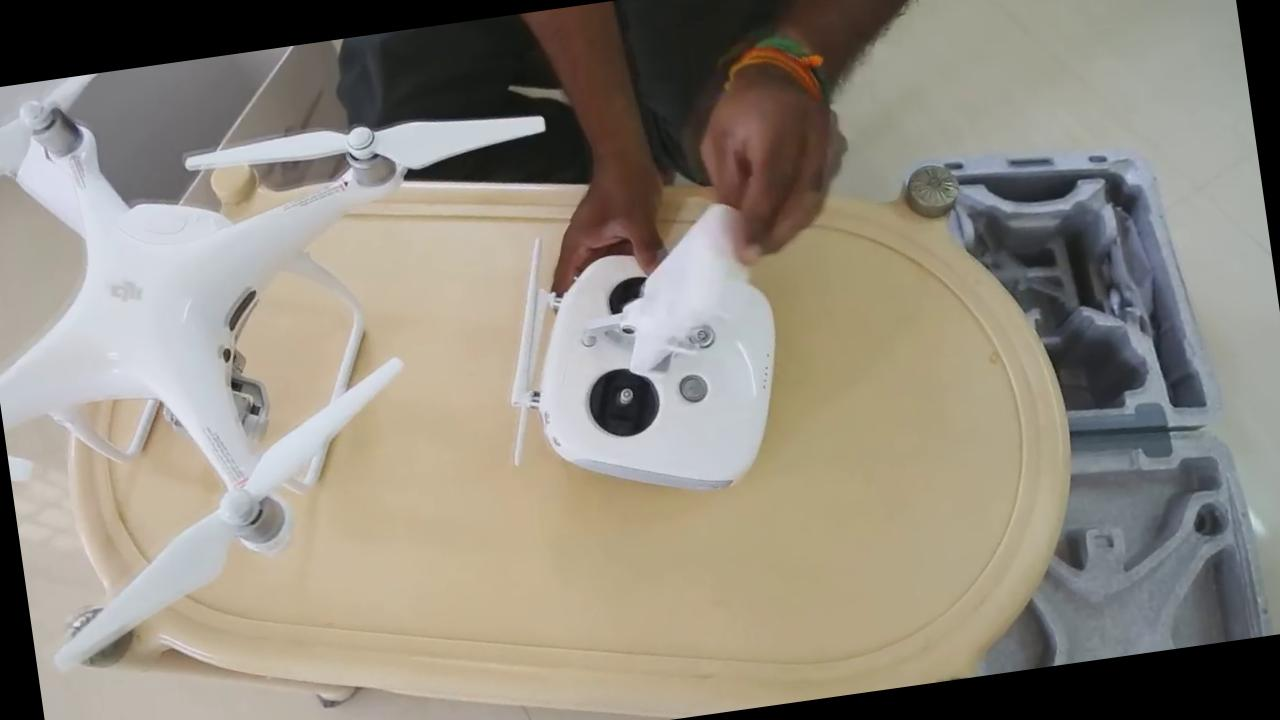drone: (0, 33, 609, 697)
